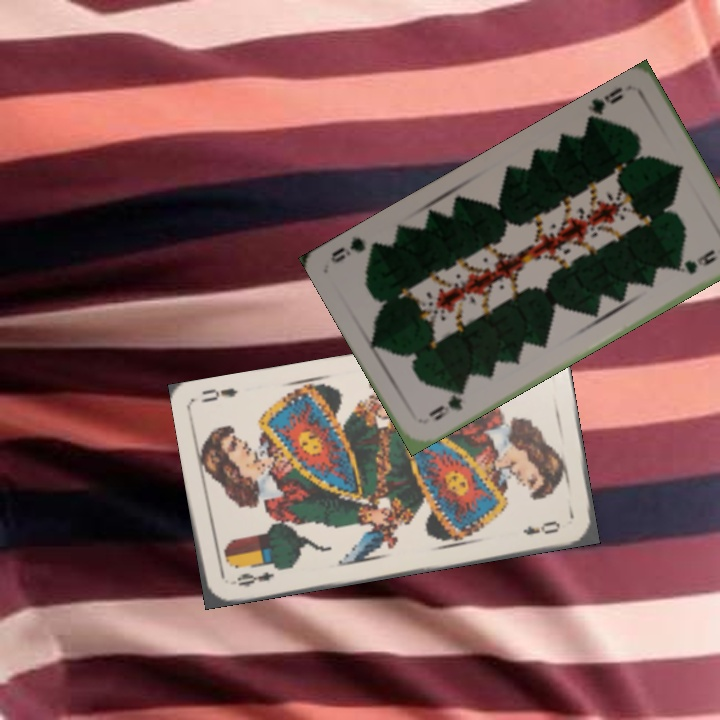EO: (226, 567, 277, 590)
G9: (583, 83, 626, 125), (424, 384, 469, 424)
